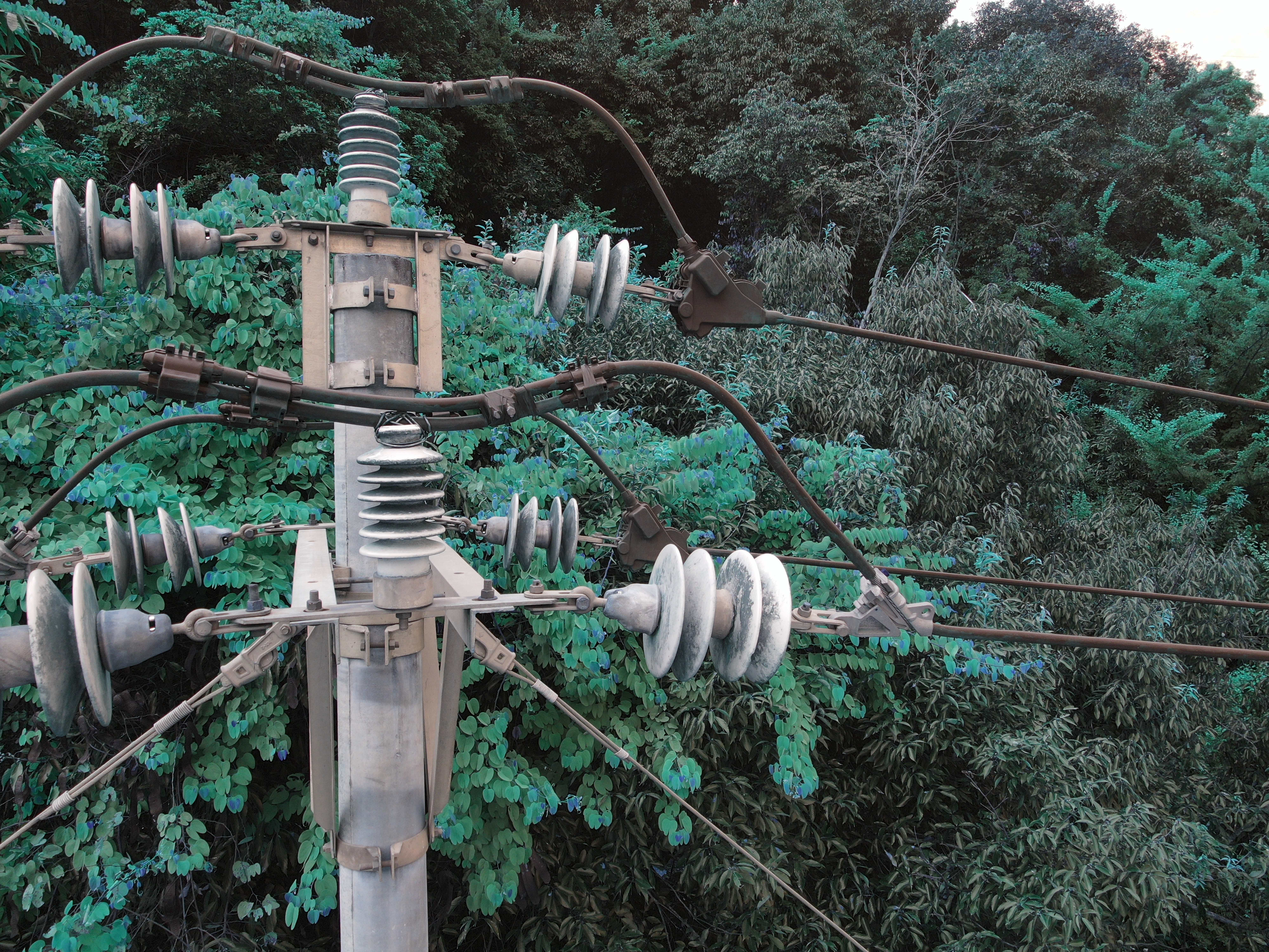severe_soiling_no_discharge_whole: (4, 557, 179, 740), (600, 539, 794, 689), (50, 172, 227, 302), (350, 416, 452, 611), (500, 222, 630, 330), (106, 499, 241, 603), (332, 85, 408, 227), (472, 491, 583, 577)
